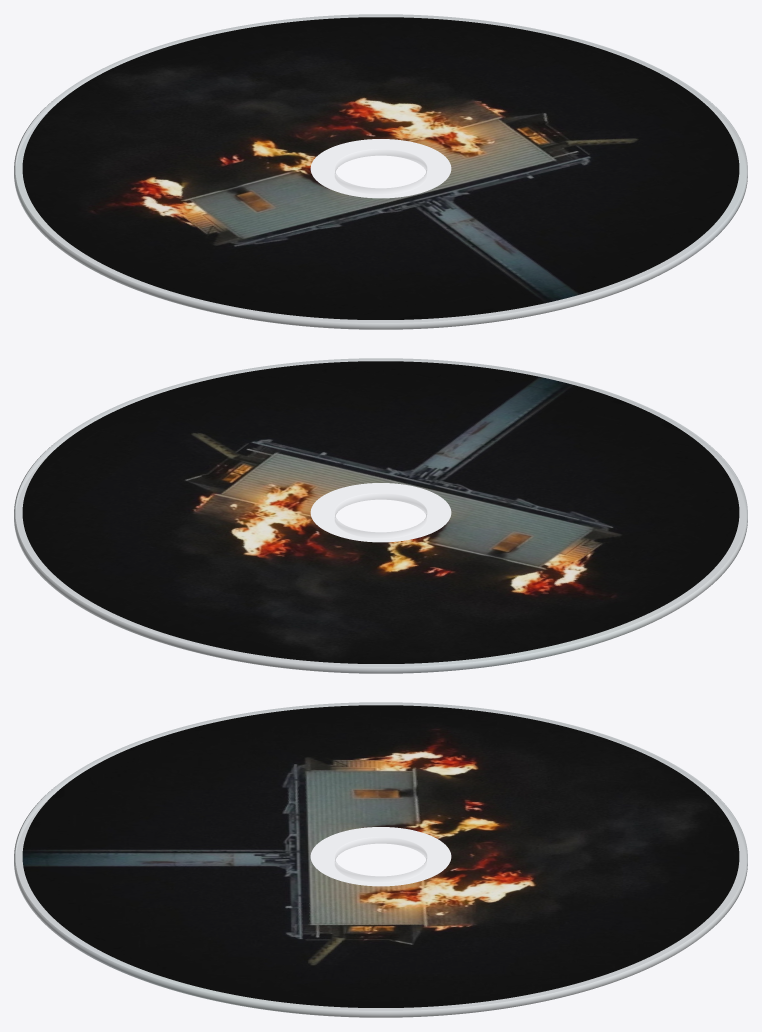
The model's file is 14_donda_2.glb.
3 views of the same model, one above another, from view 1: azimuth 30°, elevation 25°; view 2: azimuth 150°, elevation 25°; view 3: azimuth 270°, elevation 25° (orthographic).
Parts seen in each view (by area): view 1: Donda 2 · complete CD; view 2: Donda 2 · complete CD; view 3: Donda 2 · complete CD.
Part boxes in pixels (x1=…): Donda 2 · complete CD: x1=14, y1=14, x2=747, y2=329; Donda 2 · complete CD: x1=14, y1=358, x2=747, y2=673; Donda 2 · complete CD: x1=14, y1=702, x2=747, y2=1017.
Bounding box in the file's own units: 0.12 × 0.00132 × 0.12.
Materials: 5 (2 with a texture image).
